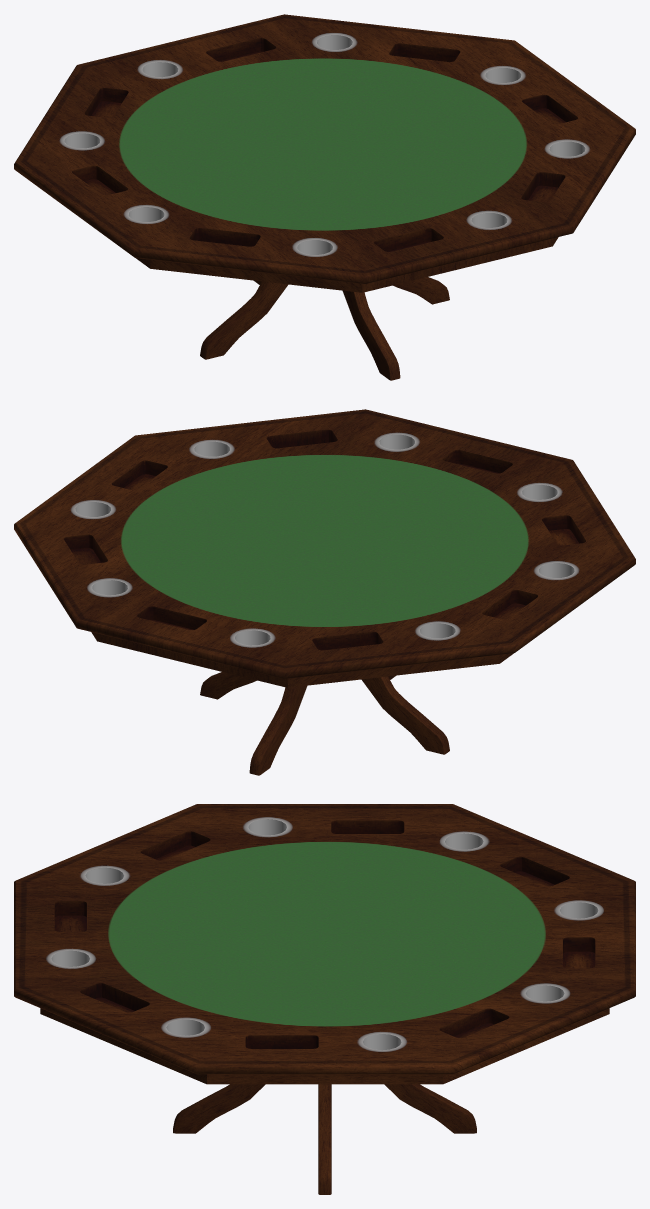
The model's file is PokerTable01_2.FBX.
3 views of the same model, one above another, from view 1: azimuth 30°, elevation 25°; view 2: azimuth 150°, elevation 25°; view 3: azimuth 270°, elevation 25° (orthographic). The views are drawn at different scales.
Visible parts, largest first — view 1: PokerTable01_2; view 2: PokerTable01_2; view 3: PokerTable01_2.
Boxes of the visible parts, <box> form: PokerTable01_2: <box>14,14,635,380</box>; PokerTable01_2: <box>14,409,635,775</box>; PokerTable01_2: <box>14,804,635,1194</box>.
Size of the model in its own units: 2156 by 750 by 2156.
